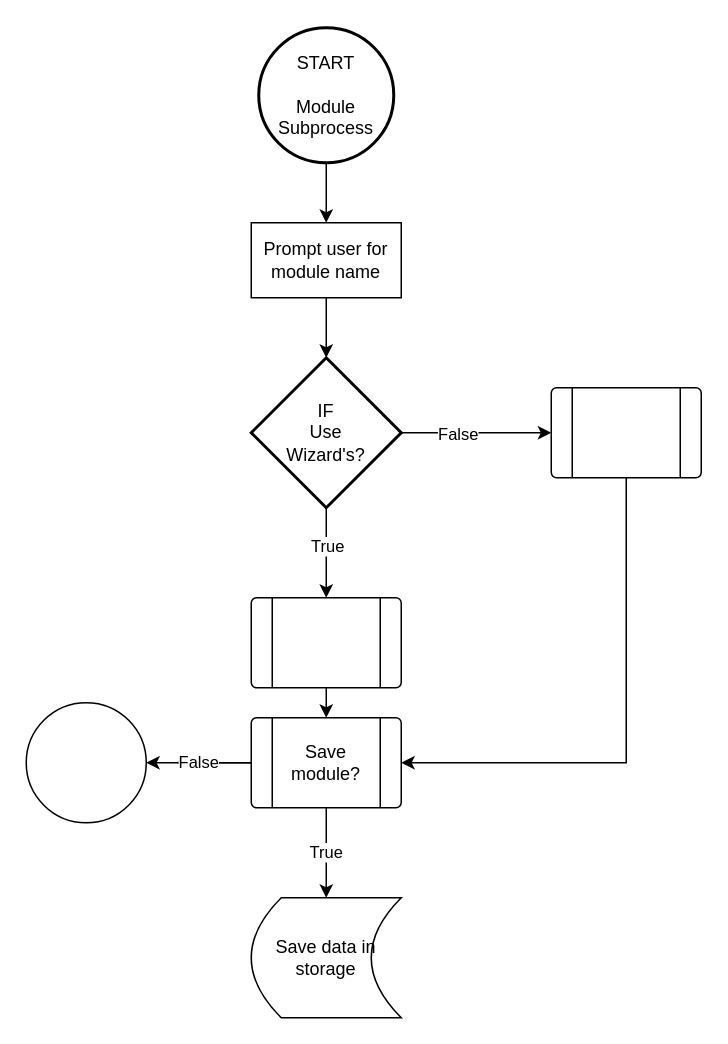
This 728x1044 diagram has some shape labels left out. Here are the shapes that lost their labels. From the top down, the box of each, then its label:
(550, 386, 701, 478): Manual Module editor
(250, 596, 401, 688): Wizard module editor
(25, 701, 146, 823): End
